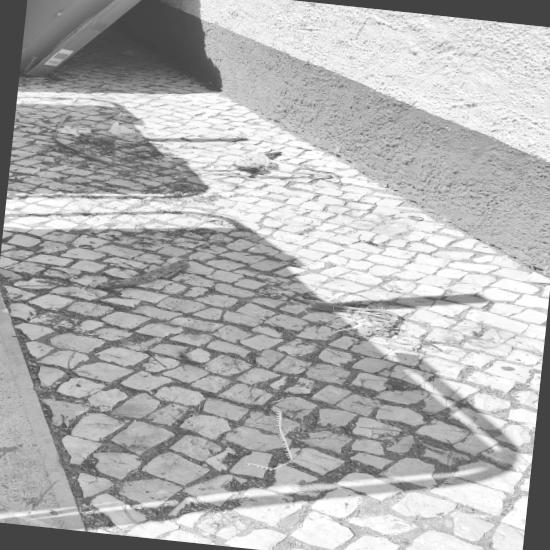Cigarette: (306, 292, 317, 295)
Corrugated carton: (20, 0, 141, 77)
Metal bottle cap: (411, 217, 424, 221)
Normal paper: (247, 411, 293, 471), (331, 315, 391, 343), (57, 126, 91, 137)
Plastic lid: (275, 214, 312, 226)
Tissues: (110, 122, 136, 136)
Unlabeled litter: (232, 154, 272, 168), (278, 291, 289, 294)
